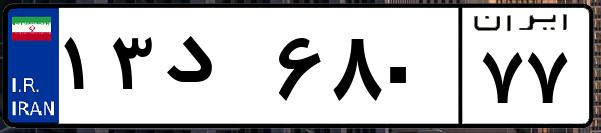0: (385, 28, 445, 110)
1: (57, 26, 110, 100)
3: (110, 28, 158, 98)
6: (270, 28, 330, 110)
7: (475, 38, 525, 113), (525, 38, 570, 115)
8: (330, 28, 385, 110)
د: (158, 20, 270, 120)
